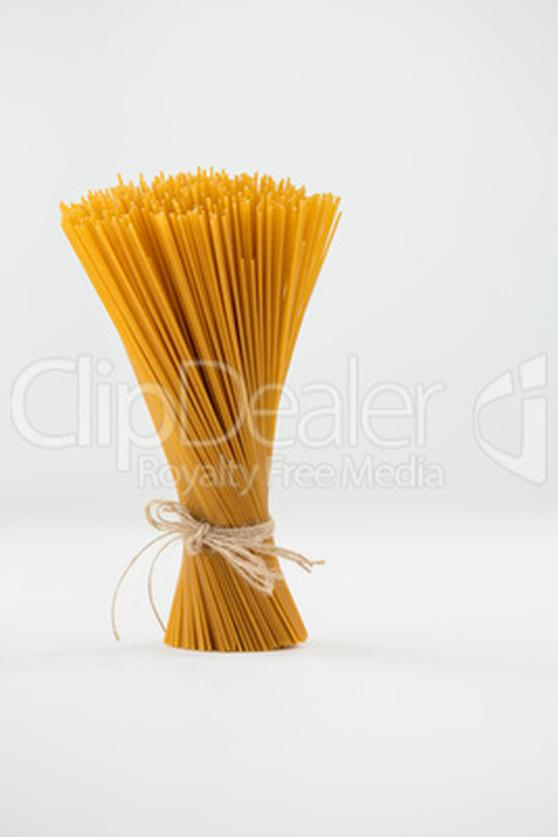spaghetti: (46, 165, 334, 658)
